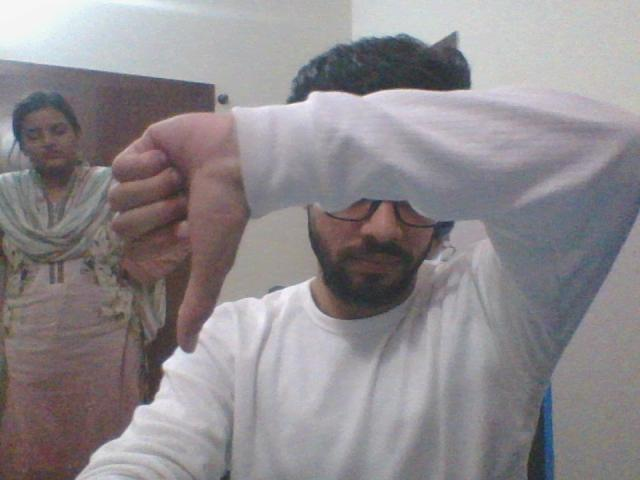thumbs-down: (103, 104, 240, 350)
